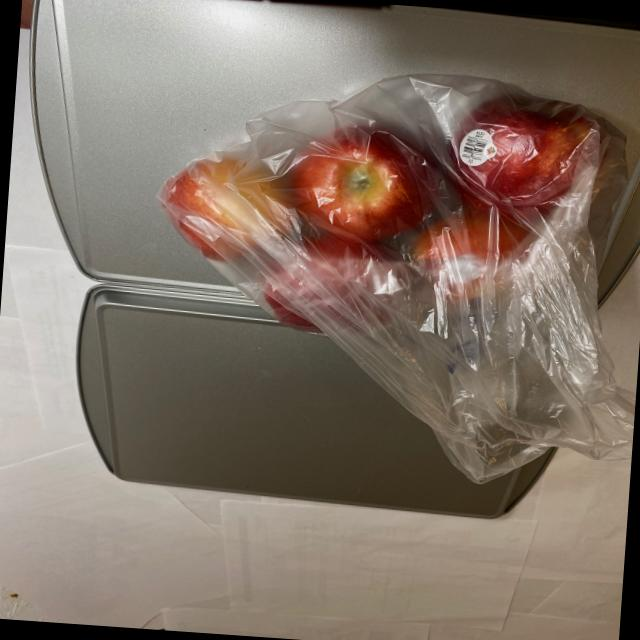apple: (157, 67, 620, 386)
